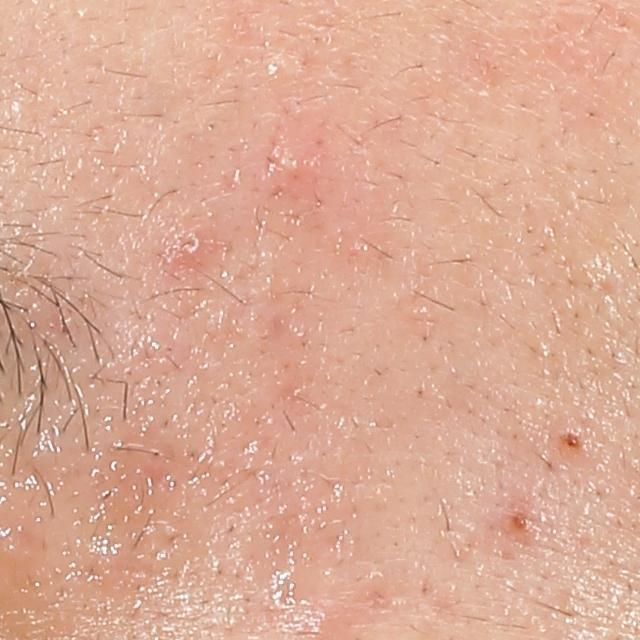papule: (170, 225, 211, 269), (509, 506, 533, 537)
